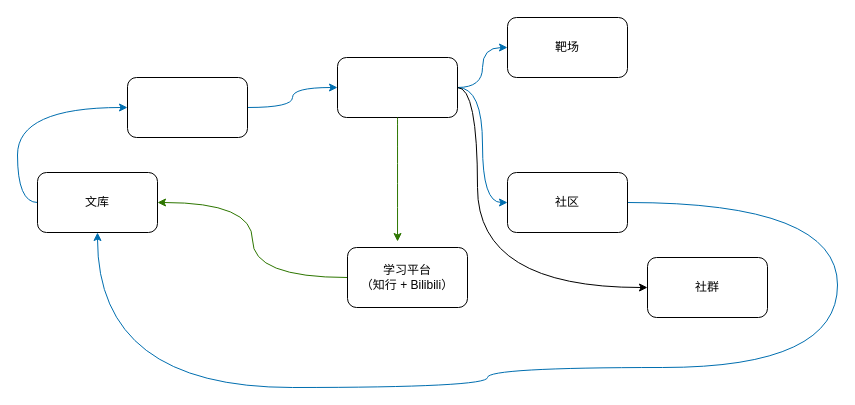
Some shapes in this 855 by 405 pixel diagram are drawn without their labels. Here are the shapes that lost their labels. From the top down, the centre of each, then its label:
At pixel 187 107: "题目".
At pixel 397 87: "练习平台".
